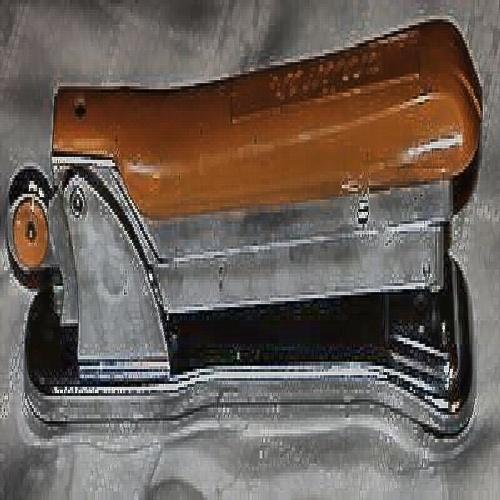stapler: (44, 77, 472, 442)
